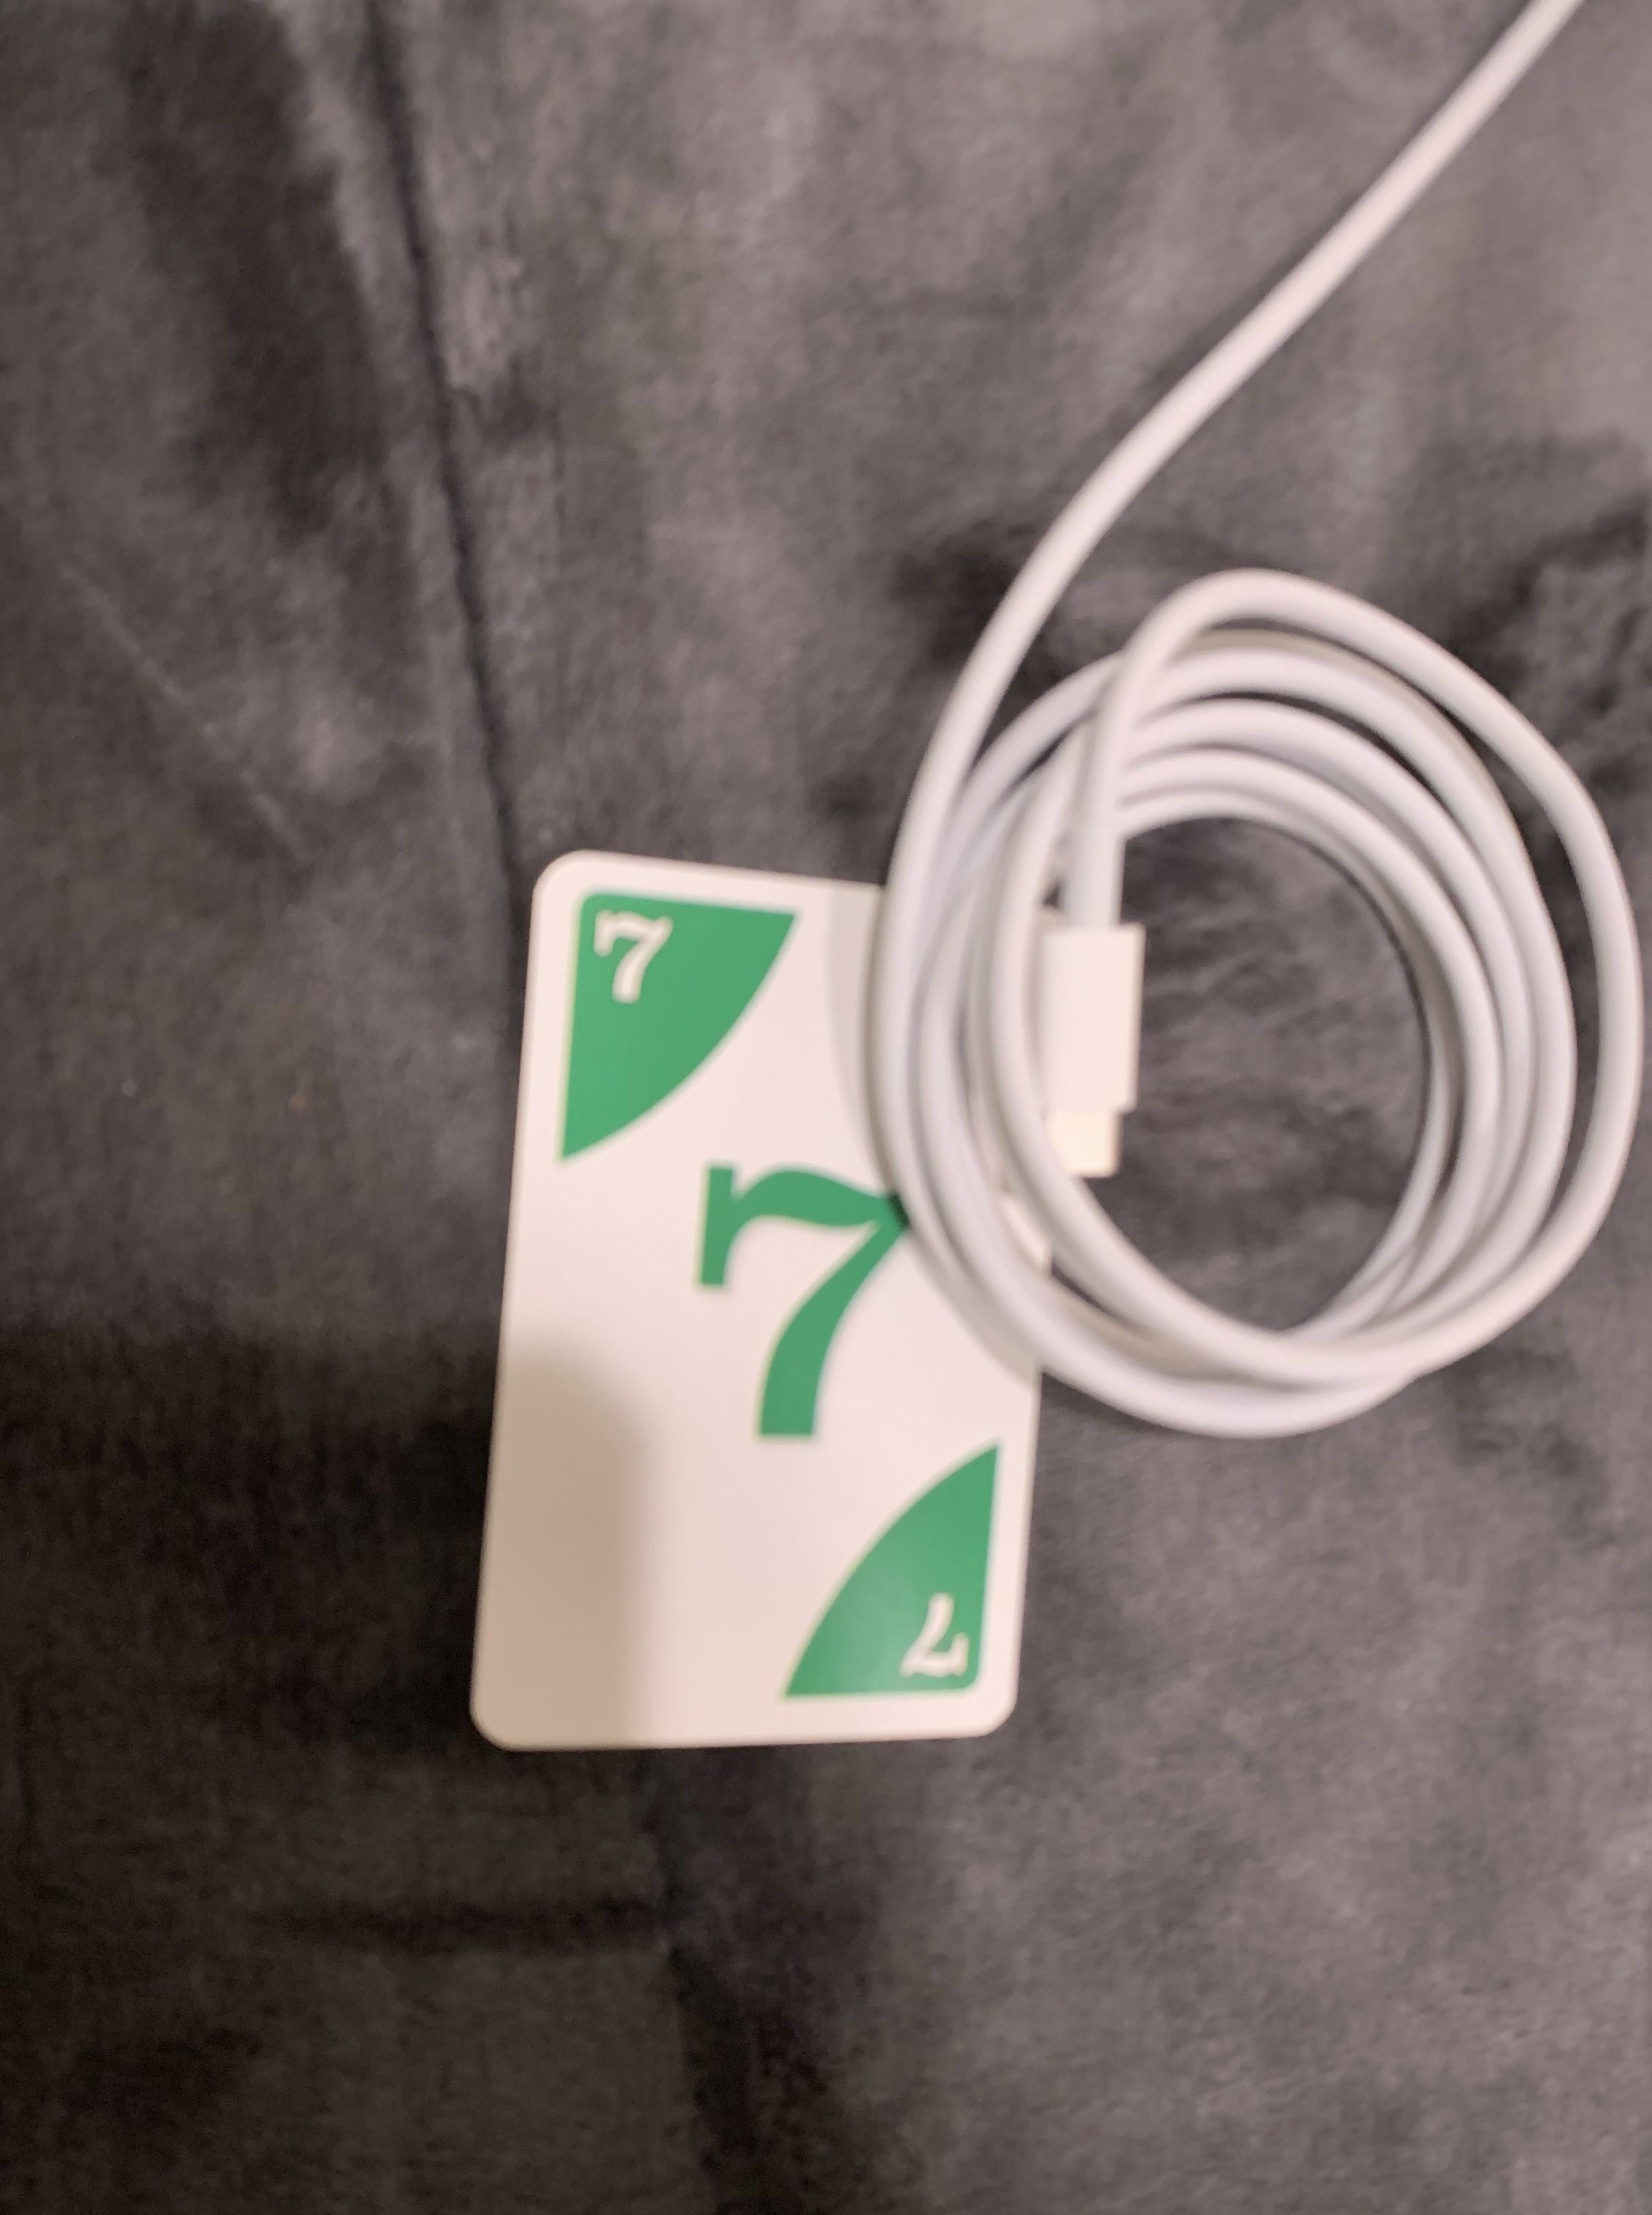seven: (434, 831, 1104, 1784)
